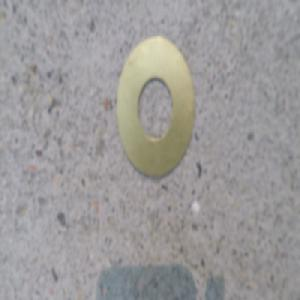Washer: (116, 34, 194, 175)
